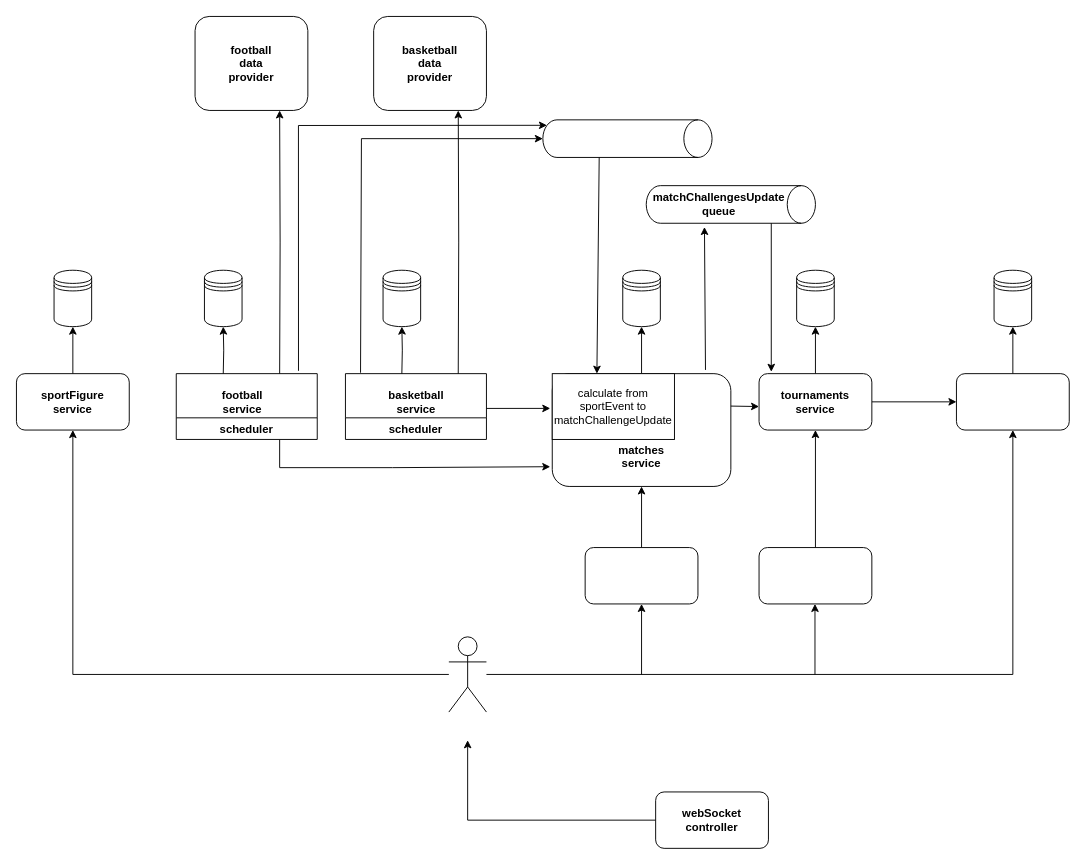
Image size: 1086x865. Some labels were removed from this diagram. The shapes that lost their labels are listed below. From the top down, each one's centre as x and y in pixels, then its label:
At (627,138): "sportEvents queue".
At (1012,401): "users service".
At (641,575): "matches controller".
At (815,575): "tournaments controller".
At (467,674): "Actor".
